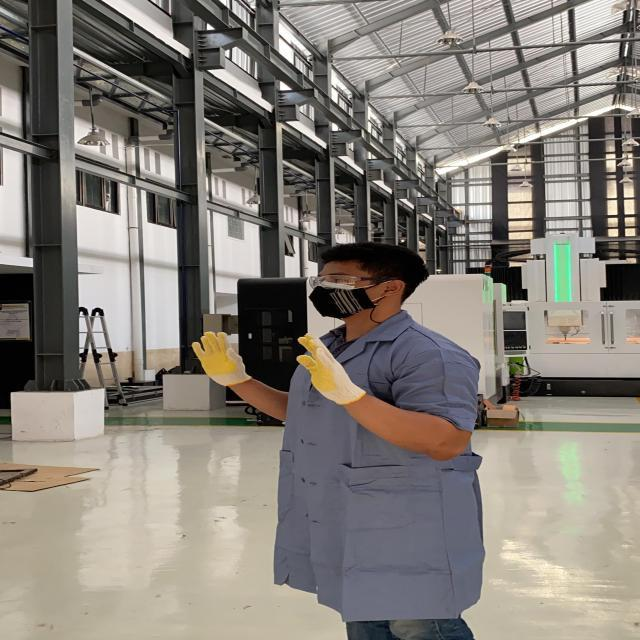glasses: (300, 270, 400, 290)
